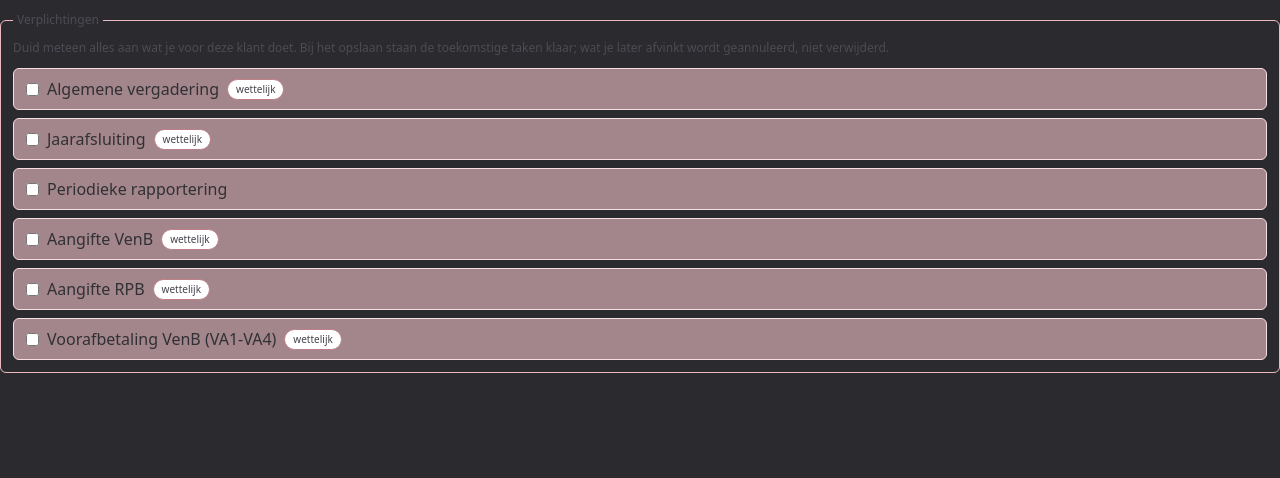
Test: ObligationPicker — getoonde standaardwaarden staan ook echt in parameters › geeft de statutaire AV-datum géén standaard: die komt uit de statuten
This screenshot has width=1280, height=478.
Click the checkbox labelled "Algemene vergadering wettelijk": (32,89) [26,82,39,96]
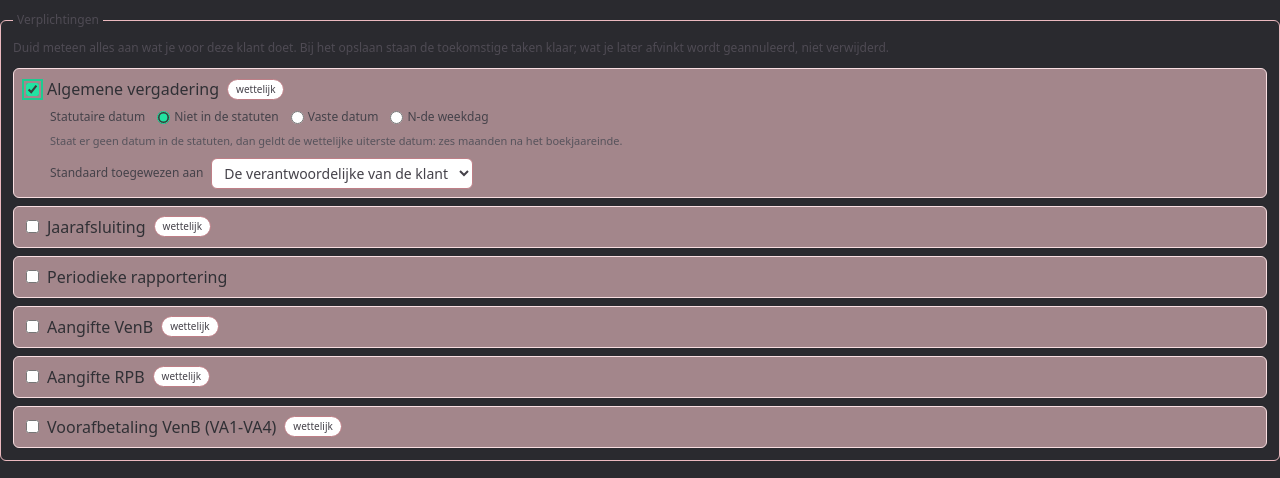
Check: the radio button labelled "Niet in de statuten" is checked, box [157,110,170,124]
Check: the radio button labelled "Vaste datum" is not checked, box [291,110,304,124]
Check: the radio button labelled "N-de weekdag" is not checked, box [390,110,403,124]
